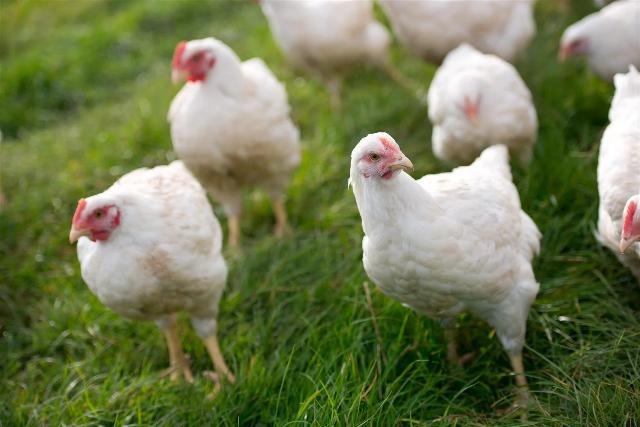Chicken: (347, 132, 543, 394), (69, 159, 240, 385), (169, 34, 304, 249), (256, 0, 425, 114), (427, 44, 536, 170), (377, 0, 536, 65), (595, 64, 640, 268), (558, 0, 640, 80)
